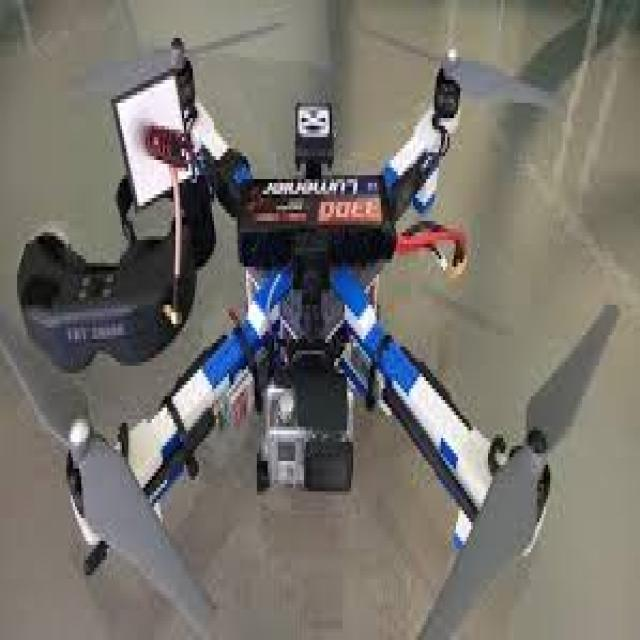drone: (62, 3, 547, 640)
